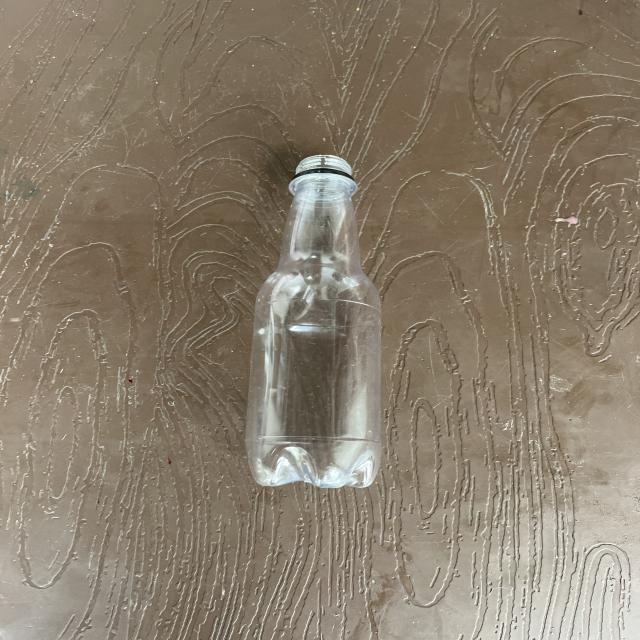PET_With_Cap: (242, 146, 412, 500)
